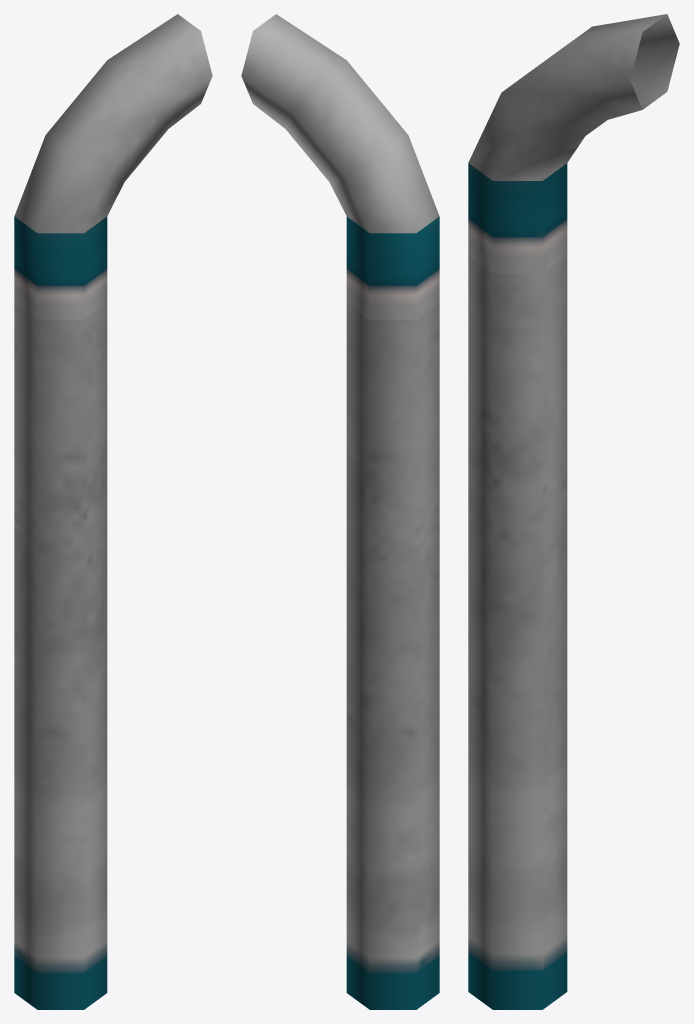
File: CP_Pipe_B_End_01.fbx
3 renders of one model, left to right at view 1: azimuth 30°, elevation 25°; view 2: azimuth 150°, elevation 25°; view 3: azimuth 330°, elevation 25°, orthographic. The views are drawn at different scales.
Parts seen in each view (by area): view 1: CP_Pipe_B_End_01; view 2: CP_Pipe_B_End_01; view 3: CP_Pipe_B_End_01.
Boxes of the visible parts, box(x1,y1,x2,y2) form: CP_Pipe_B_End_01: box(14, 14, 212, 1009); CP_Pipe_B_End_01: box(241, 14, 439, 1009); CP_Pipe_B_End_01: box(468, 14, 679, 1009).
Bounding box in the file's own units: 11.66 × 64.04 × 5.74.
